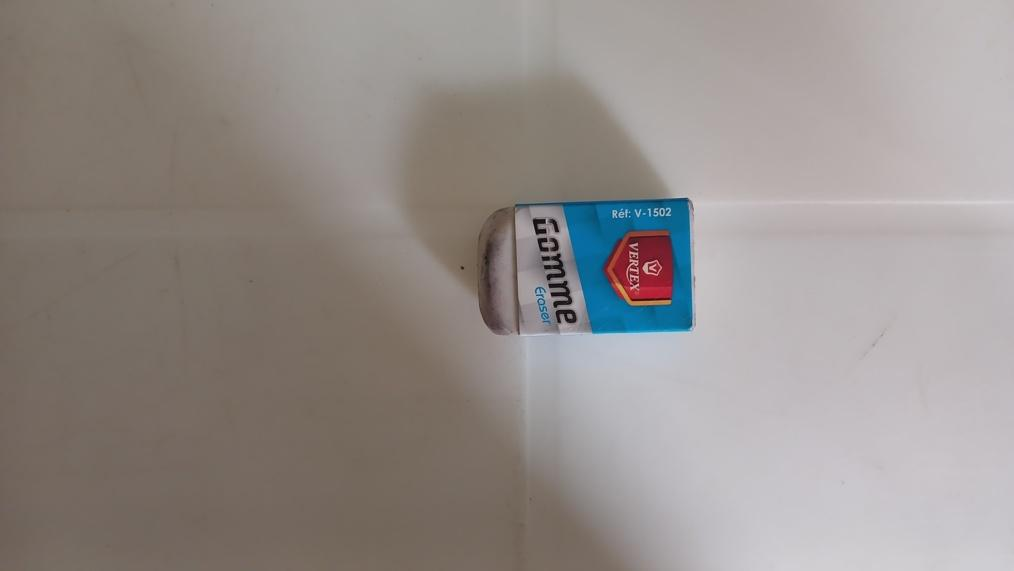Eraser: (481, 199, 693, 341)
